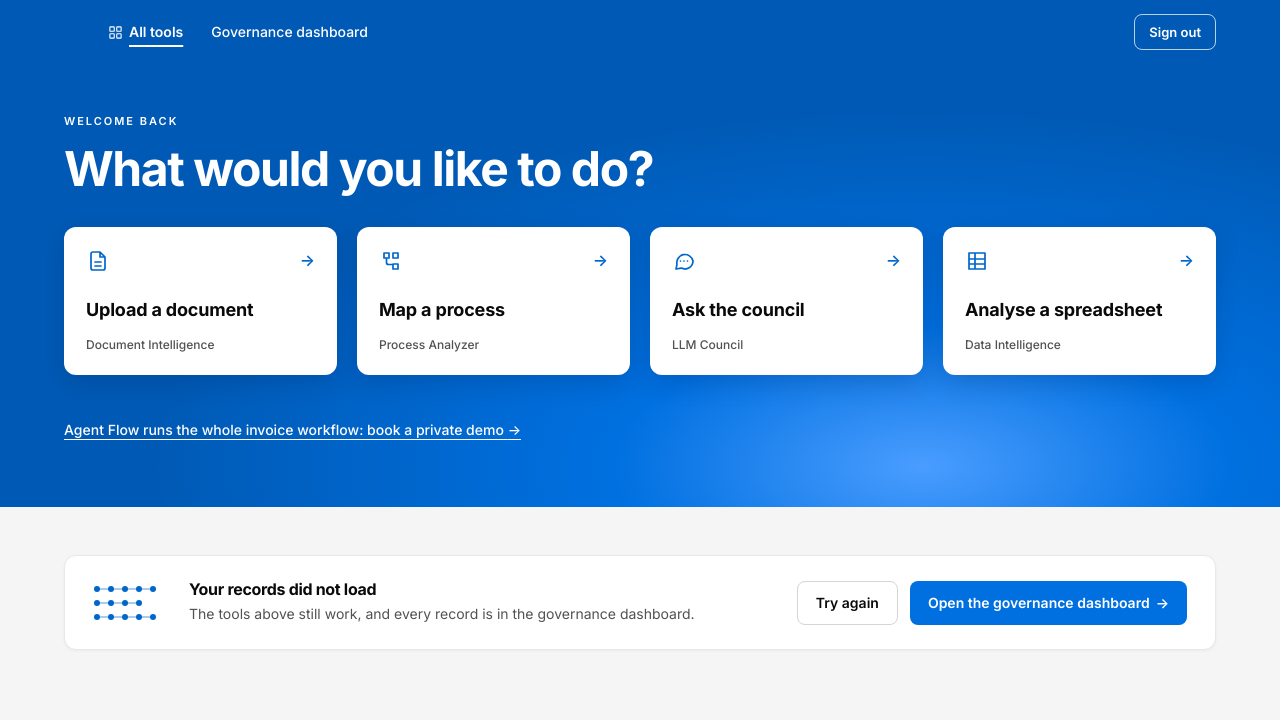
Test: ToolsHubPage: failures › offers a retry and the dashboard when the records fail
Click the button "Try again". click: click(847, 603)
box: [797,581,898,625]
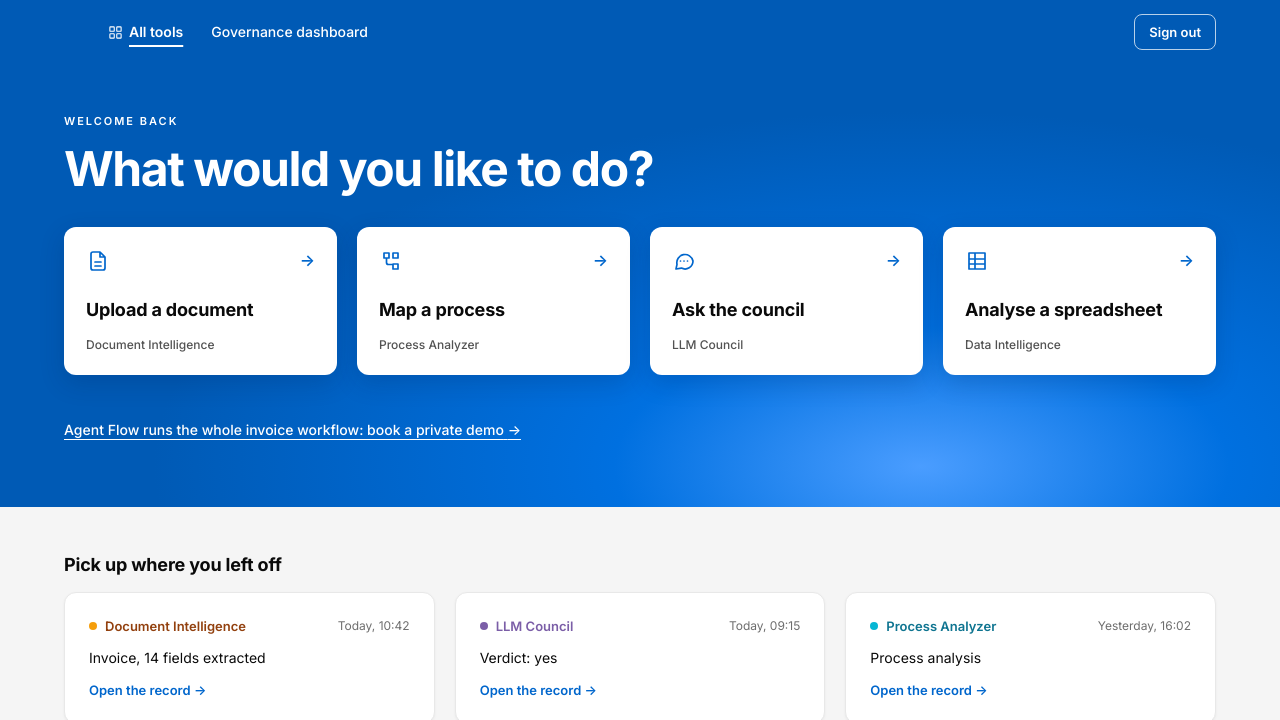
Expected: the heading "Pick up where you left off" is shown, [64,554,282,576]
